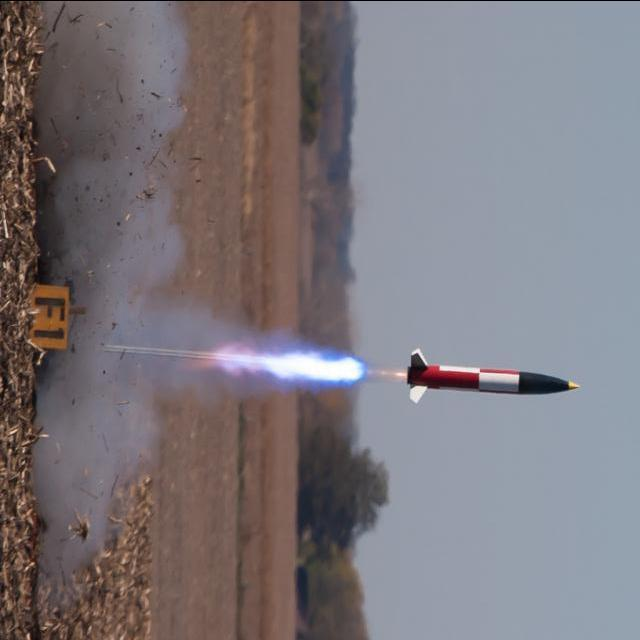Missile: (403, 345, 584, 402)
